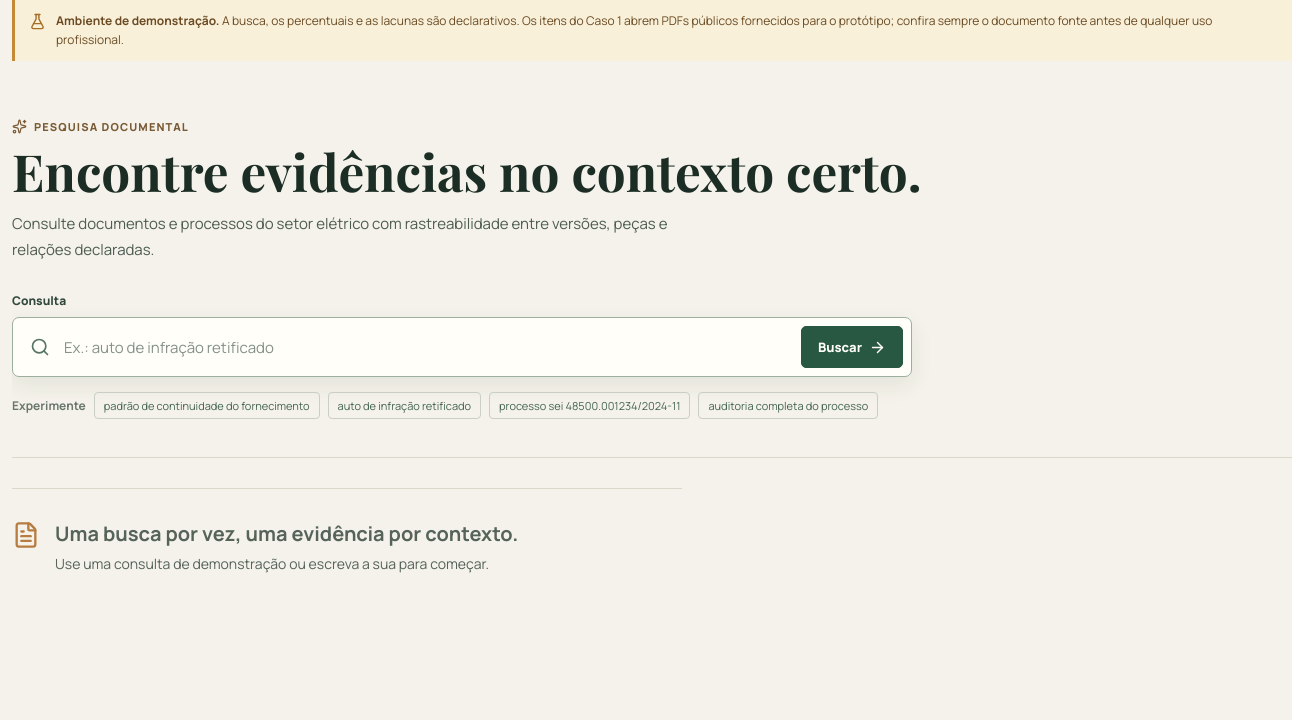
SearchPage › mostra estado de erro quando a busca falha
Click the button "auto de infração retificado": (404, 406) [328,392,481,420]
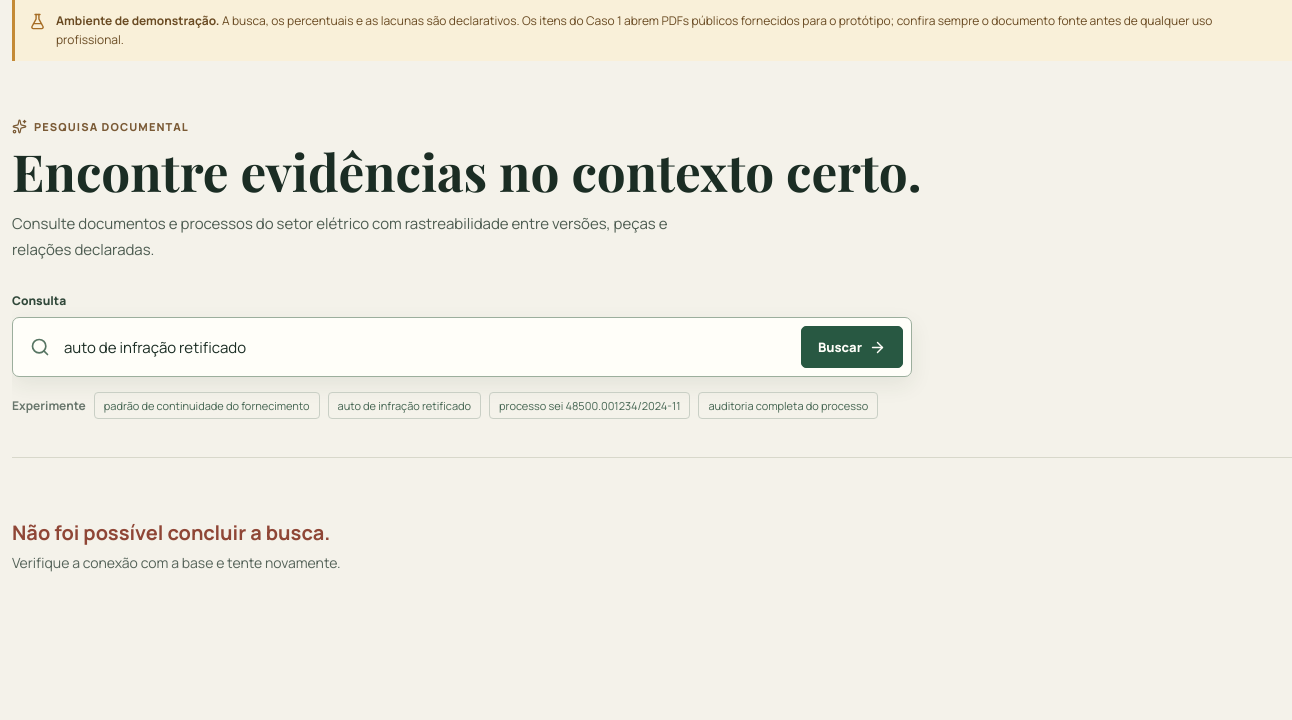
Result: the heading "Não foi possível concluir a busca." is shown at [12,520,330,546]
